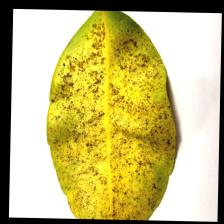canker: (63, 68, 162, 190)
